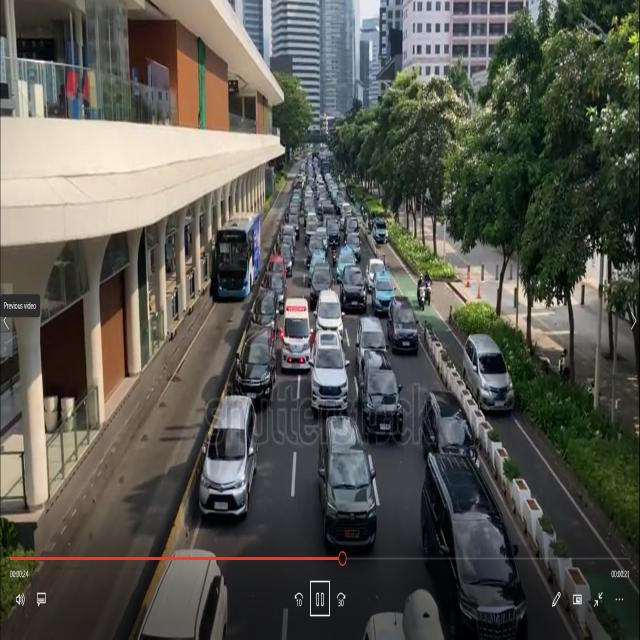Ambulance: (279, 294, 314, 377)
